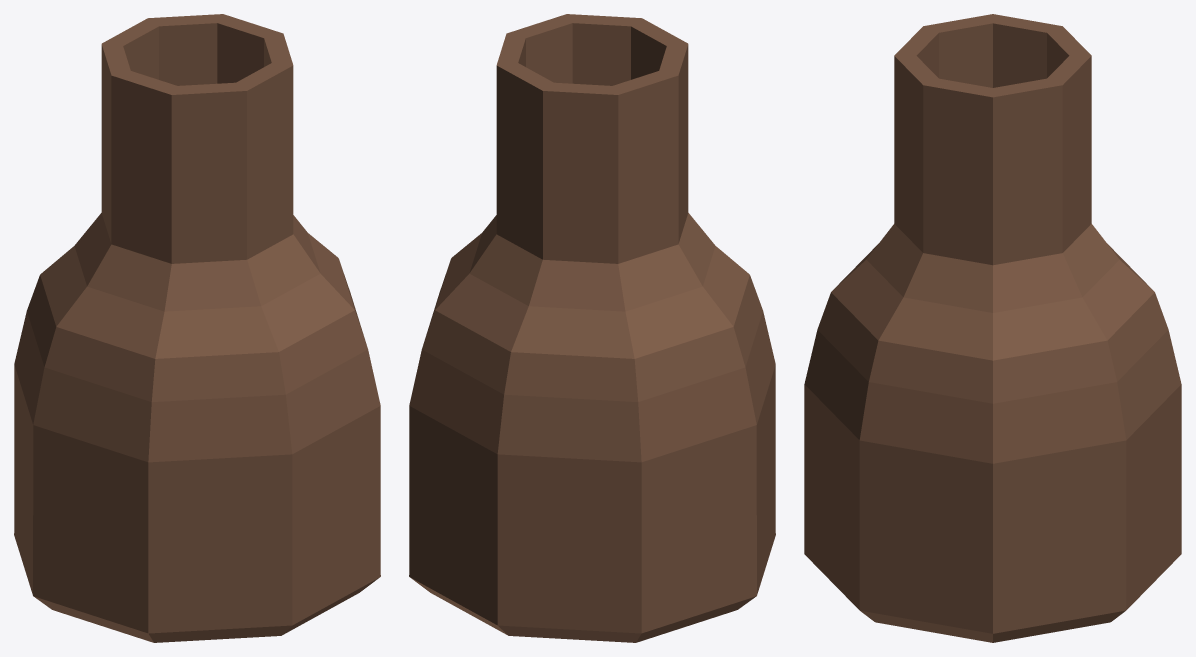
File: Container Empty 1.fbx
3 views of the same model, side by side, from view 1: azimuth 30°, elevation 25°; view 2: azimuth 150°, elevation 25°; view 3: azimuth 270°, elevation 25° (orthographic).
Parts seen in each view (by area): view 1: Water Container; view 2: Water Container; view 3: Water Container.
Part boxes in pixels (x1=…): Water Container: x1=14, y1=14, x2=380, y2=642; Water Container: x1=409, y1=14, x2=775, y2=642; Water Container: x1=804, y1=14, x2=1181, y2=642.
Bounding box in the file's own units: 94.74 × 143 × 94.74.
